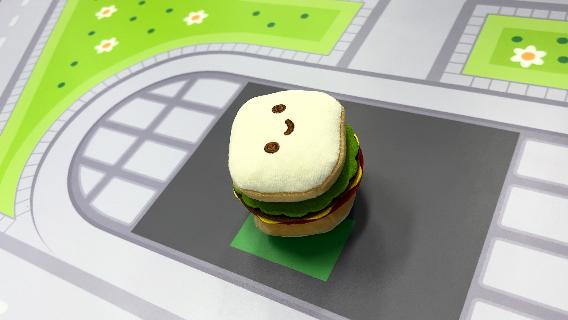sandwich: (226, 88, 366, 238)
